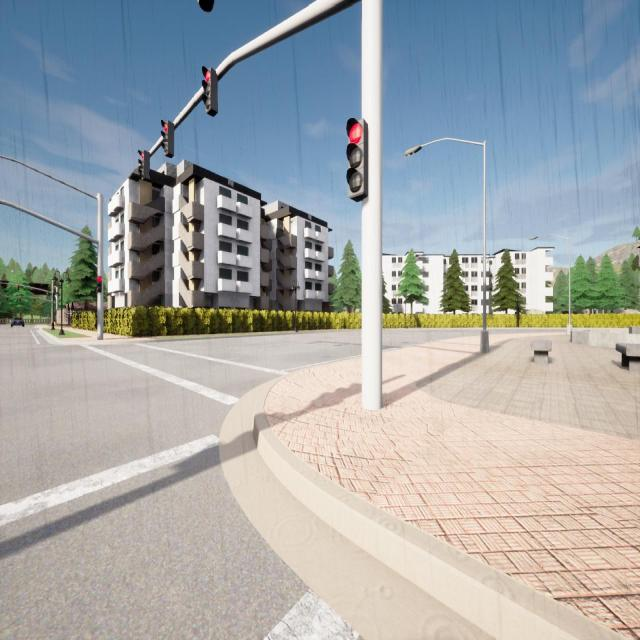Vehicle: (10, 317, 24, 327)
traffic_light: (346, 116, 369, 202), (202, 66, 217, 116), (161, 120, 174, 158), (137, 150, 150, 182), (96, 276, 102, 293), (6, 295, 8, 301), (18, 284, 20, 290), (34, 297, 36, 302), (19, 297, 21, 301)
